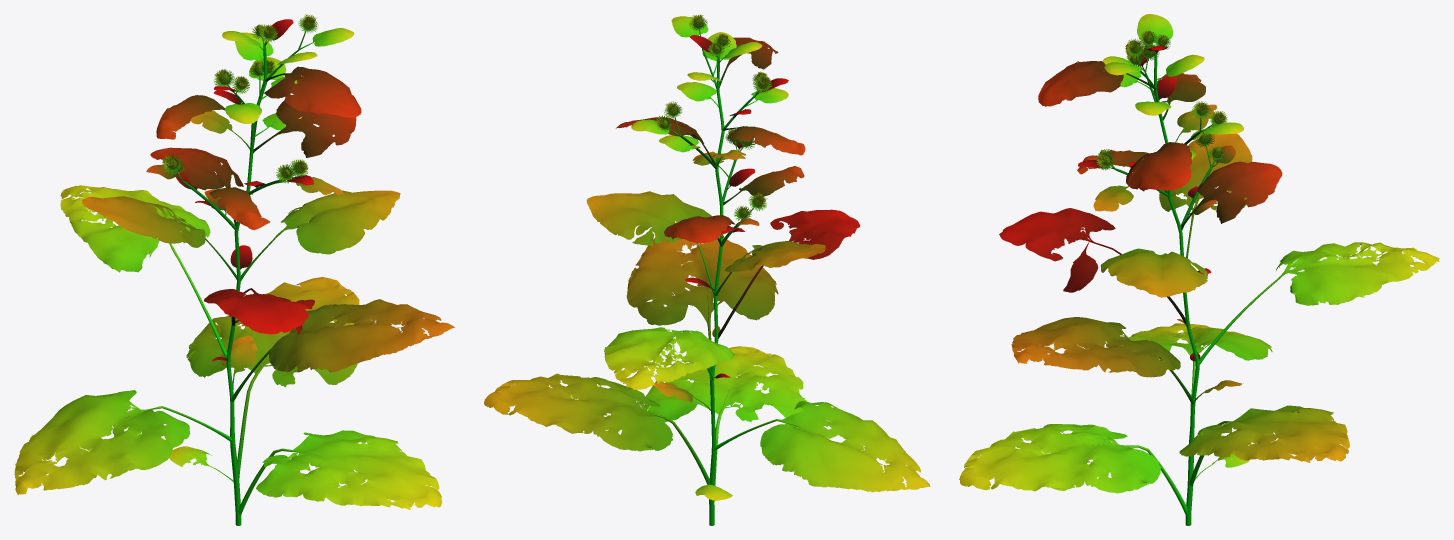
The model's file is Greater Burdock_LOD0_Var2_xh5pdgiqx.fbx.
The picture shows the model from 3 angles, left to right: view 1: azimuth 30°, elevation 25°; view 2: azimuth 150°, elevation 25°; view 3: azimuth 270°, elevation 25°; orthographic projection. The views are drawn at different scales.
Visible parts, largest first — view 1: _t073_Var2_LOD0; view 2: _t073_Var2_LOD0; view 3: _t073_Var2_LOD0.
Boxes of the visible parts, x1,y1,x2,y2 form: _t073_Var2_LOD0: [14, 14, 454, 525]; _t073_Var2_LOD0: [484, 14, 930, 525]; _t073_Var2_LOD0: [959, 14, 1439, 525].
Size of the model in its own units: 75.68 by 93.83 by 80.92.
